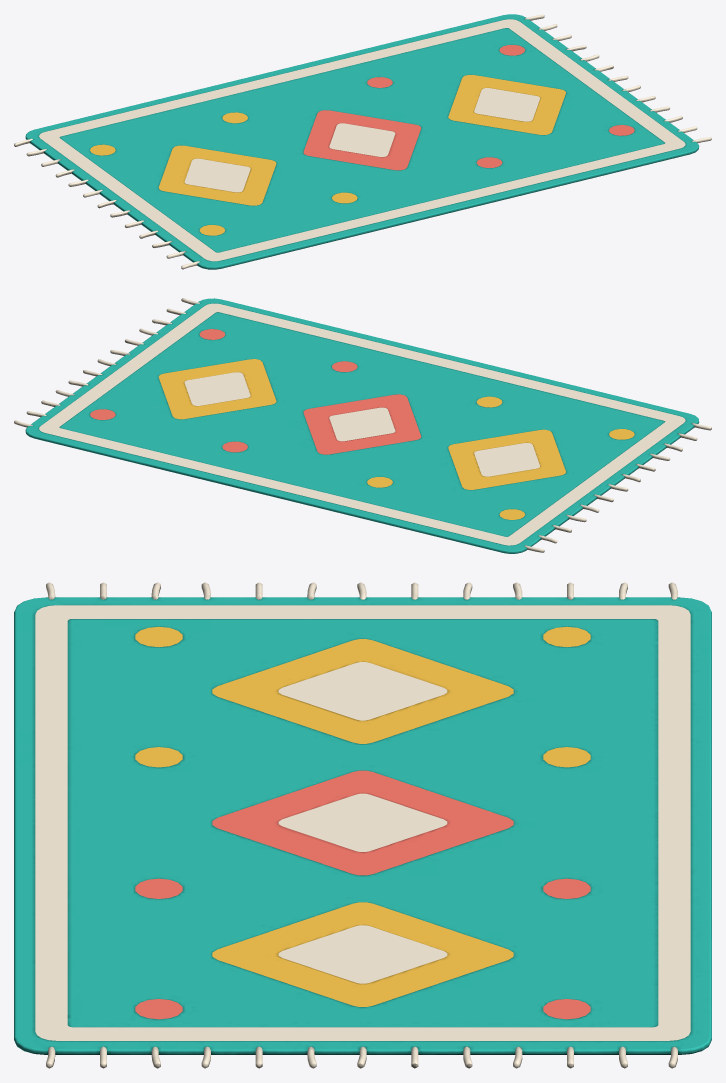
File: rug_rect.glb
3 renders of one model, top to bottom at view 1: azimuth 30°, elevation 25°; view 2: azimuth 150°, elevation 25°; view 3: azimuth 270°, elevation 25°, orthographic. The views are drawn at different scales.
Parts seen in each view (by area): view 1: rug_rect; view 2: rug_rect; view 3: rug_rect.
Part boxes in pixels (x1,y1,x2,y2): rug_rect: [14, 14, 711, 269]; rug_rect: [14, 298, 711, 553]; rug_rect: [14, 582, 711, 1068].
Size of the model in its own units: 2.12 by 0.015 by 1.3.
Materials: 5 (5 with a texture image).
